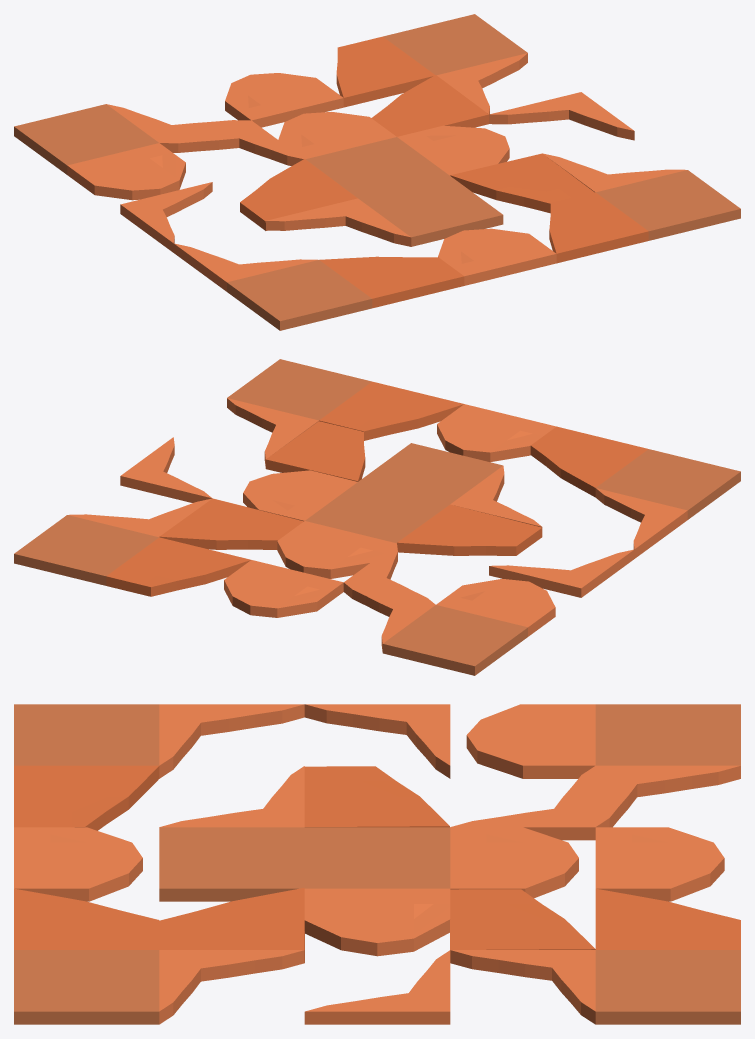
The model's file is лава.fbx.
The picture shows the model from 3 angles, top to bottom: view 1: azimuth 30°, elevation 25°; view 2: azimuth 150°, elevation 25°; view 3: azimuth 270°, elevation 25°; orthographic projection. The views are drawn at different scales.
Visible parts, largest first — view 1: Куб.006; view 2: Куб.006; view 3: Куб.006.
Boxes of the visible parts, x1,y1,x2,y2 form: Куб.006: (14, 14, 740, 330); Куб.006: (14, 359, 740, 675); Куб.006: (14, 704, 740, 1024).
Size of the model in its own units: 1000 by 22.79 by 1000.
